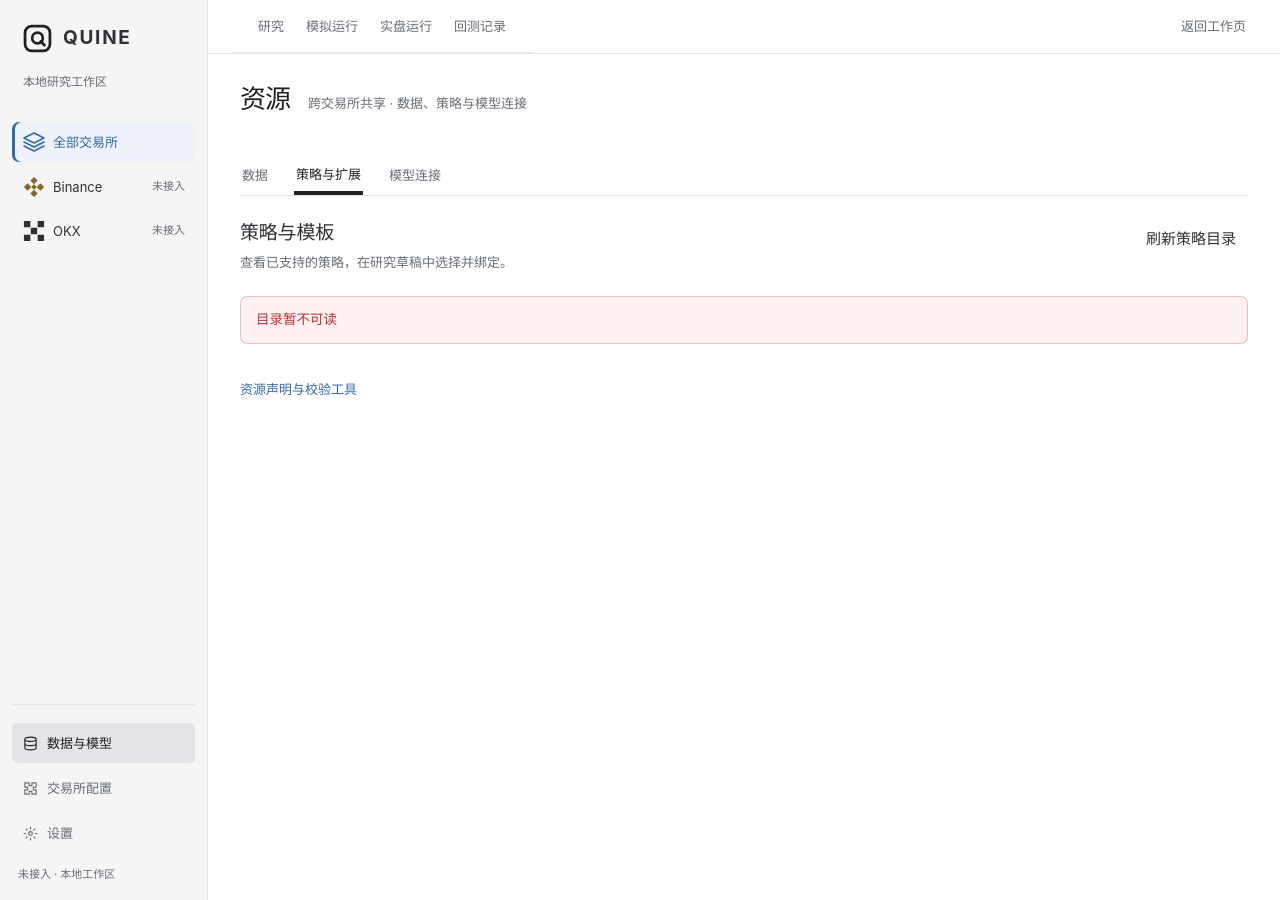
Test: recovers a failed template directory in place without creating research
This screenshot has width=1280, height=900.
Check: the message reads "目录暂不可读", box [256, 311, 337, 327]
Click the button "刷新策略目录" at (1191,239), box [1134, 220, 1248, 257]
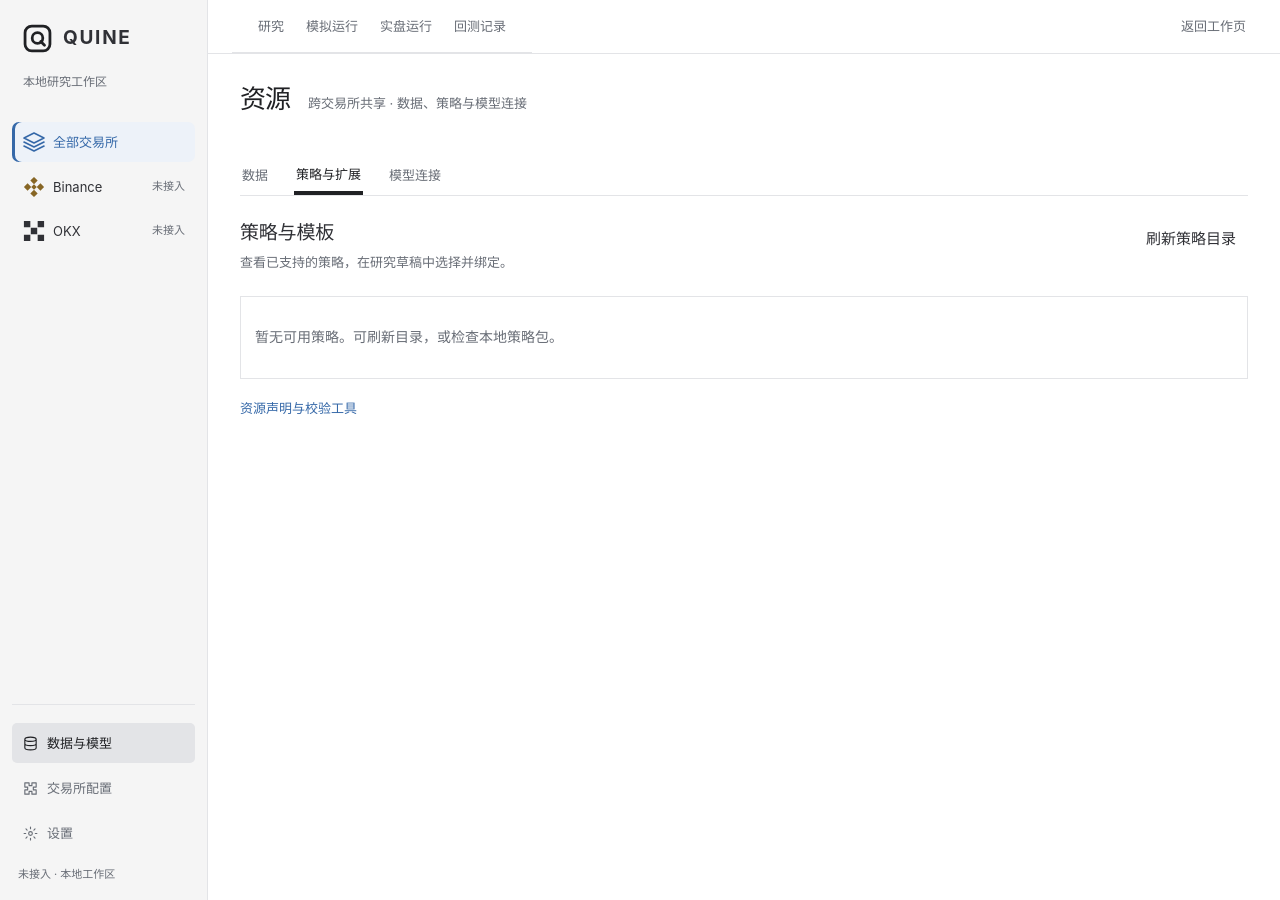
Check: the text "暂无可用策略。可刷新目录，或检查本地策略包。" is shown, box [240, 296, 1248, 379]
